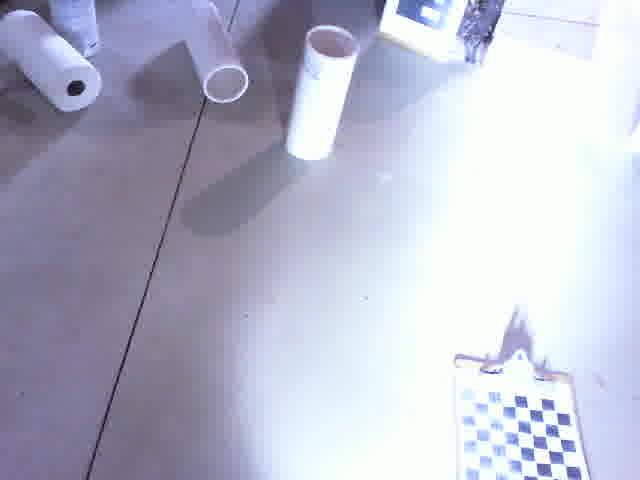coral: (282, 22, 360, 164), (179, 0, 252, 105)
